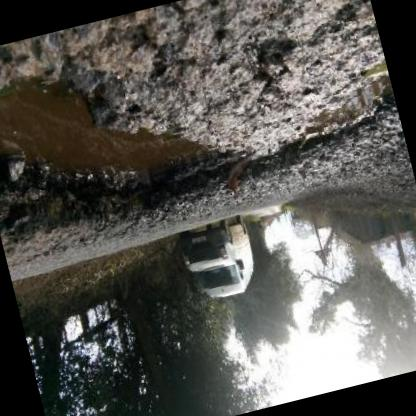pothole: (0, 0, 408, 251)
